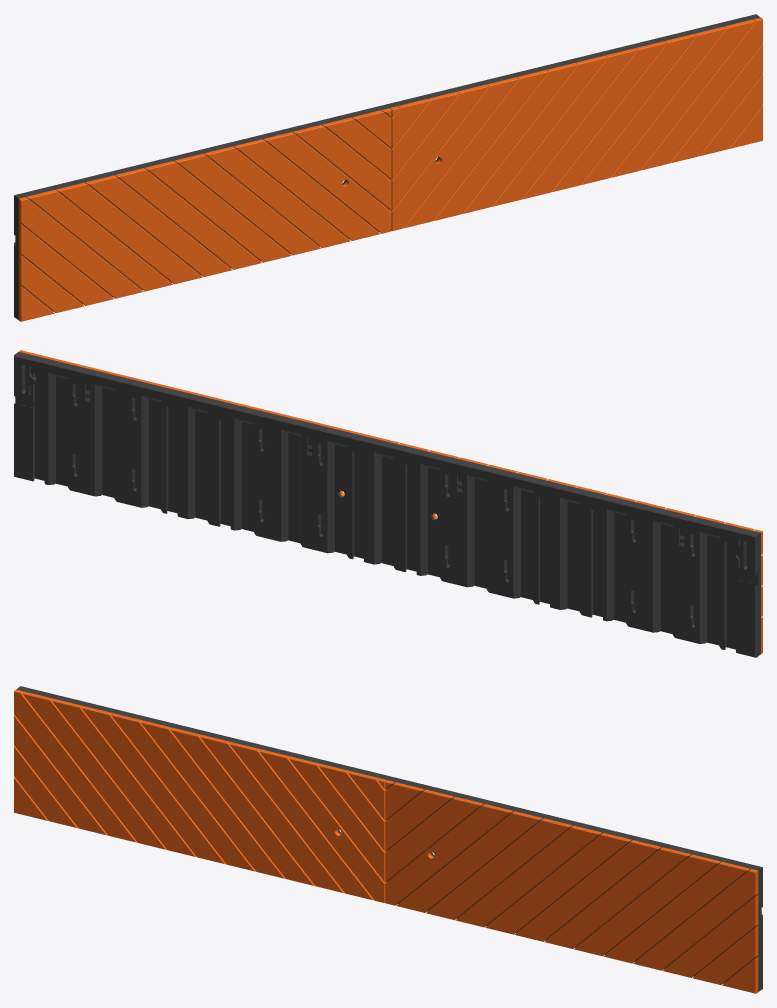
Rendered from Faceplate_Chevron_4W-1H.lib.glb.
The picture shows the model from 3 angles, top to bottom: view 1: azimuth 30°, elevation 25°; view 2: azimuth 150°, elevation 25°; view 3: azimuth 330°, elevation 25°; orthographic projection.
Parts seen in each view (by area): view 1: Faceplate_Chevron_4W-1H; view 2: Faceplate_Chevron_4W-1H; view 3: Faceplate_Chevron_4W-1H.
Boxes of the visible parts, <box> form: Faceplate_Chevron_4W-1H: <box>14,14,762,321</box>; Faceplate_Chevron_4W-1H: <box>14,350,762,657</box>; Faceplate_Chevron_4W-1H: <box>14,686,762,993</box>.
Size of the model in its own units: 351 by 54.97 by 6.21.
